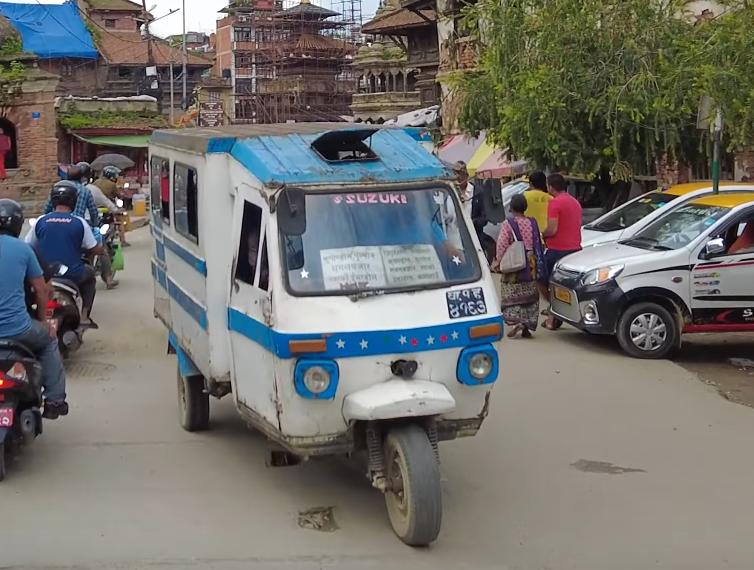scooter: (0, 308, 54, 483)
taxi: (538, 183, 754, 368)
tempo: (133, 113, 509, 555)
